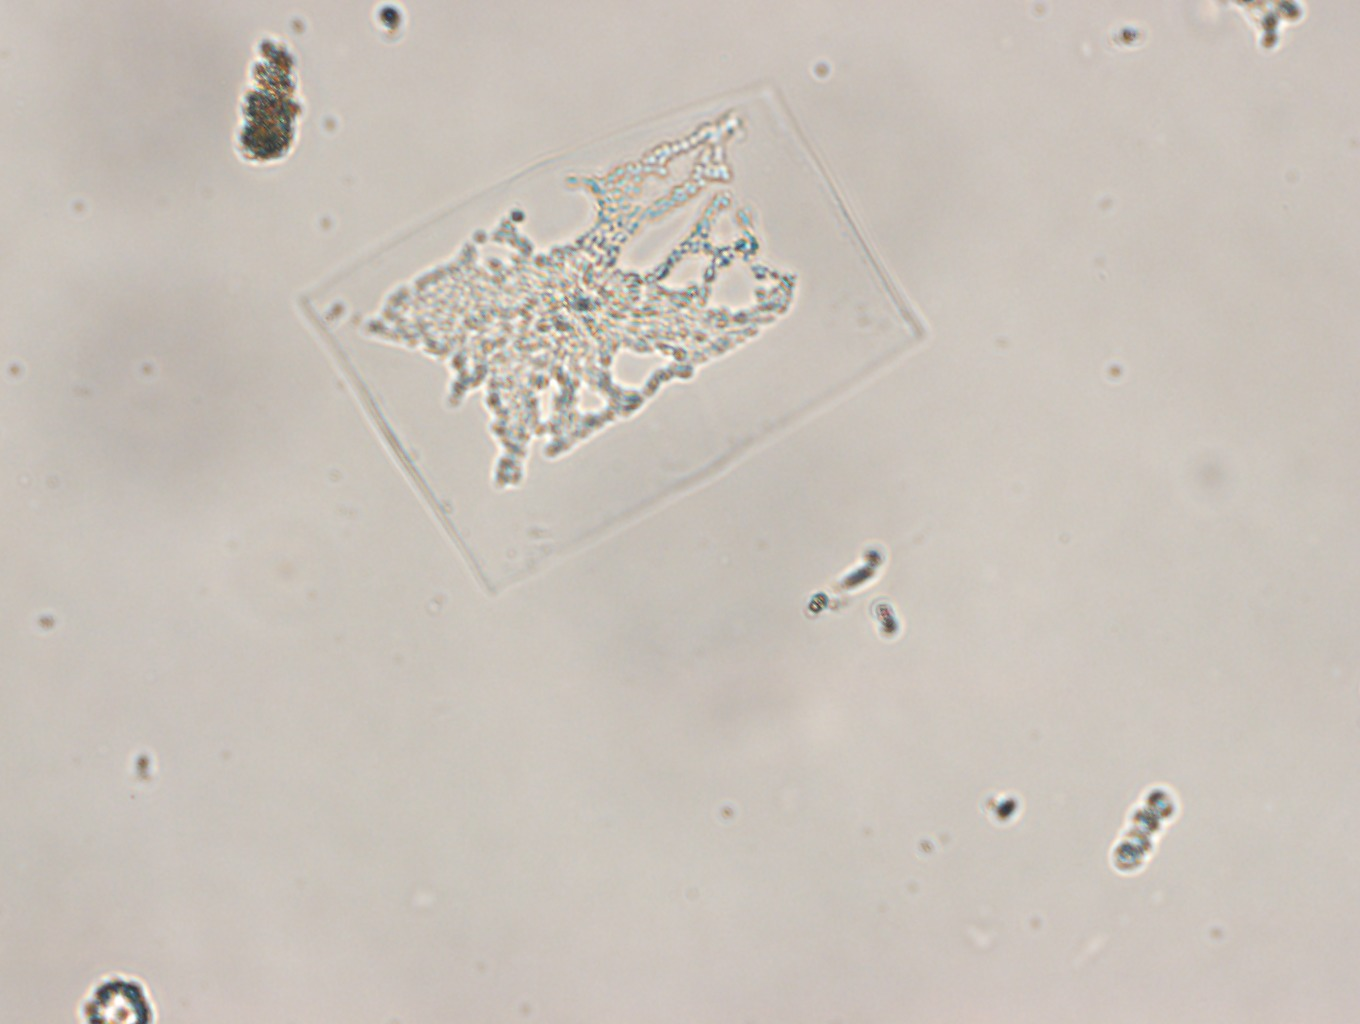helicotheca: (297, 79, 932, 599)
